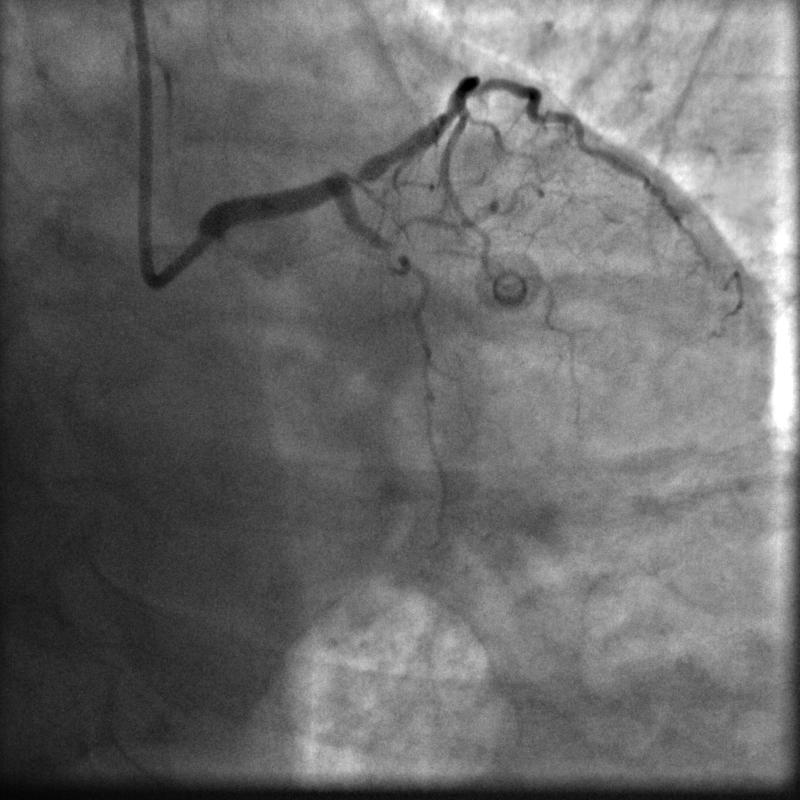Stenosis: (332, 161, 373, 192)
